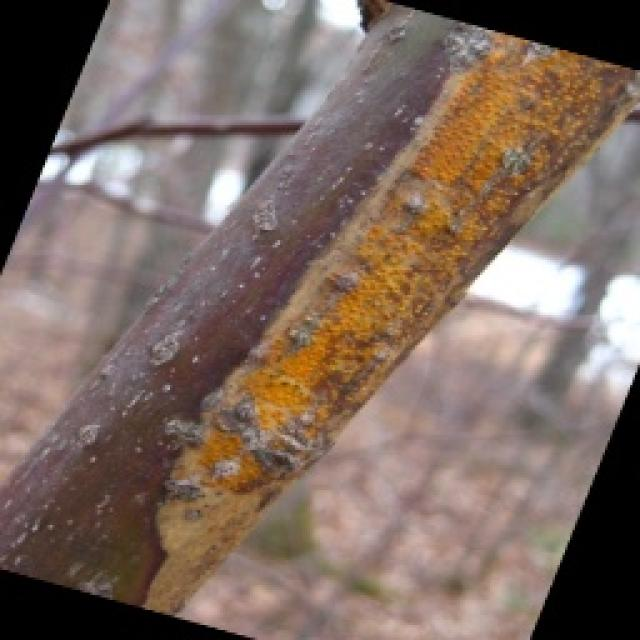Golden_canker: (135, 17, 637, 615)
